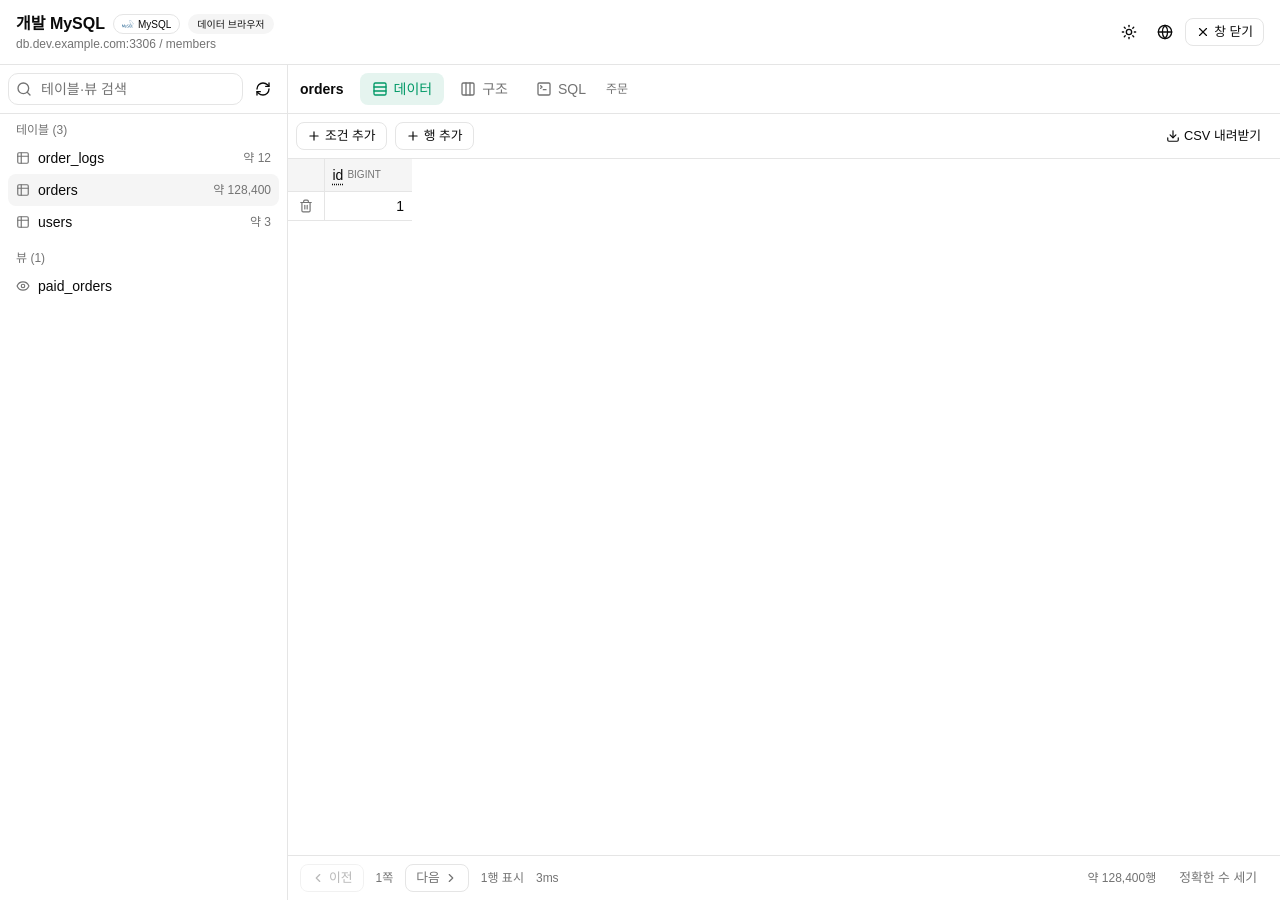
it: 데이터 브라우저 — 데이터 탭 › 다음 페이지가 있을 때만 [다음]이 켜진다
expect the table is shown: met, box [288, 159, 412, 221]
expect the button "이전" is disabled: met, box [300, 864, 364, 892]
Click the button "다음" at [437, 878], box [405, 864, 469, 892]
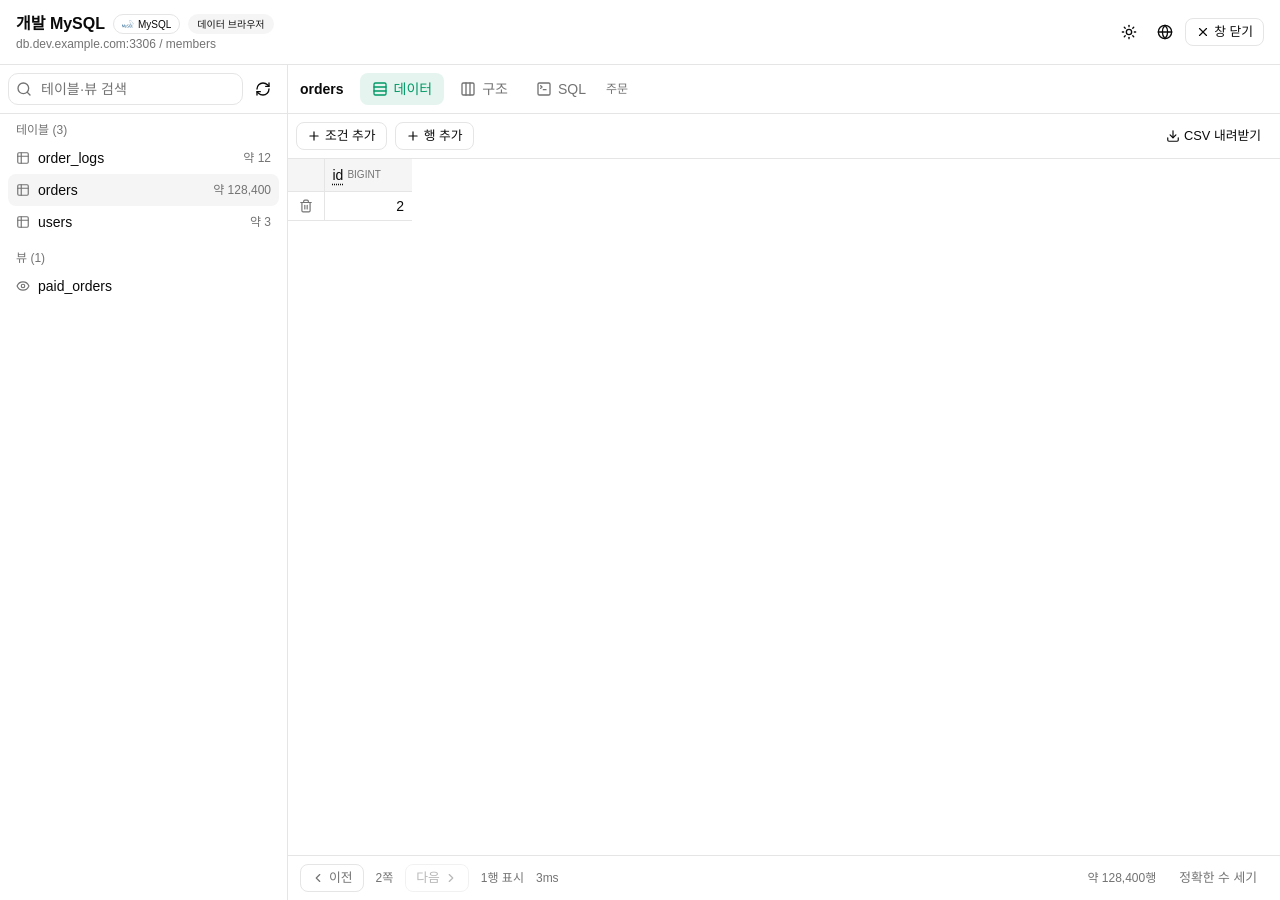
expect the text "2쪽" is shown: met, box [376, 870, 393, 886]
expect the button "다음" is disabled: met, box [405, 864, 469, 892]
expect the button "이전" is enabled: met, box [300, 864, 364, 892]
